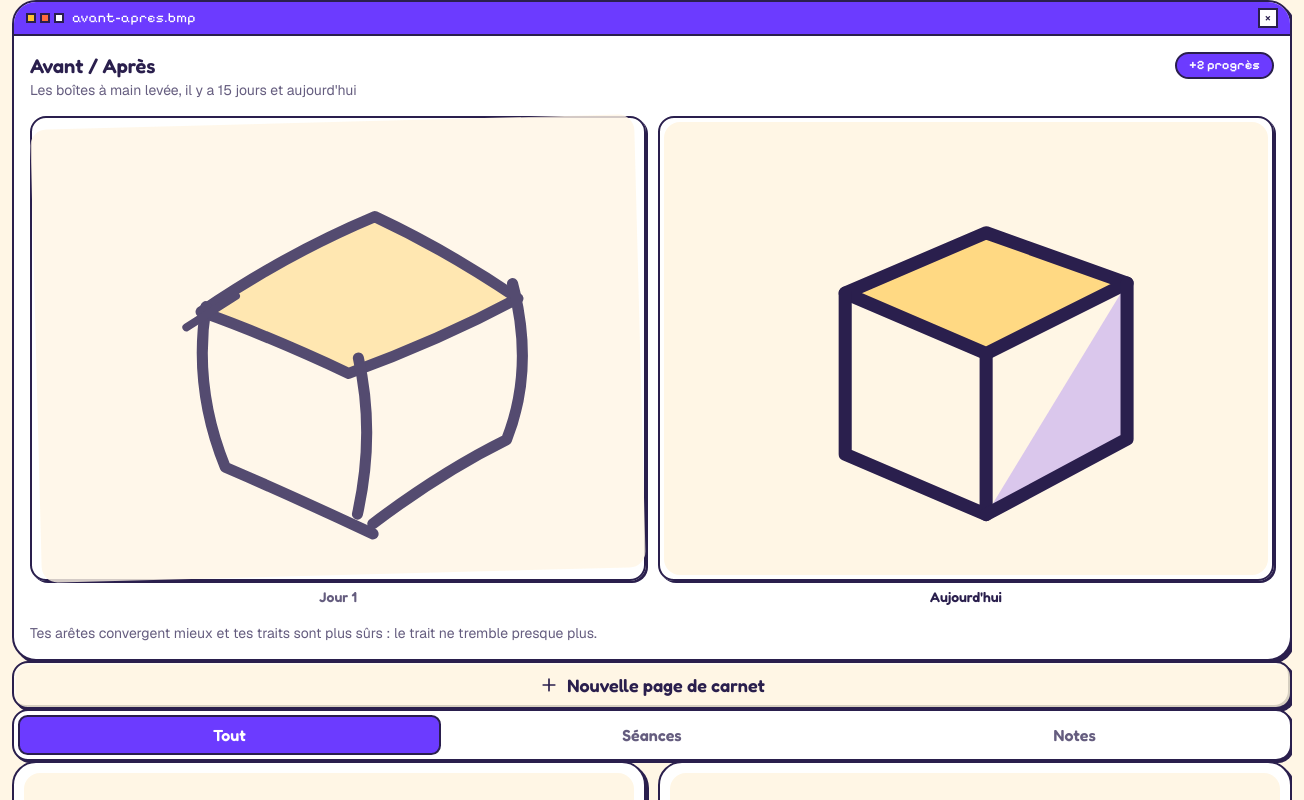
Test case: Journal › lists every page, then filters by type
Click the radio button labelled "Notes" at (1075, 735), box [863,715,1286,755]
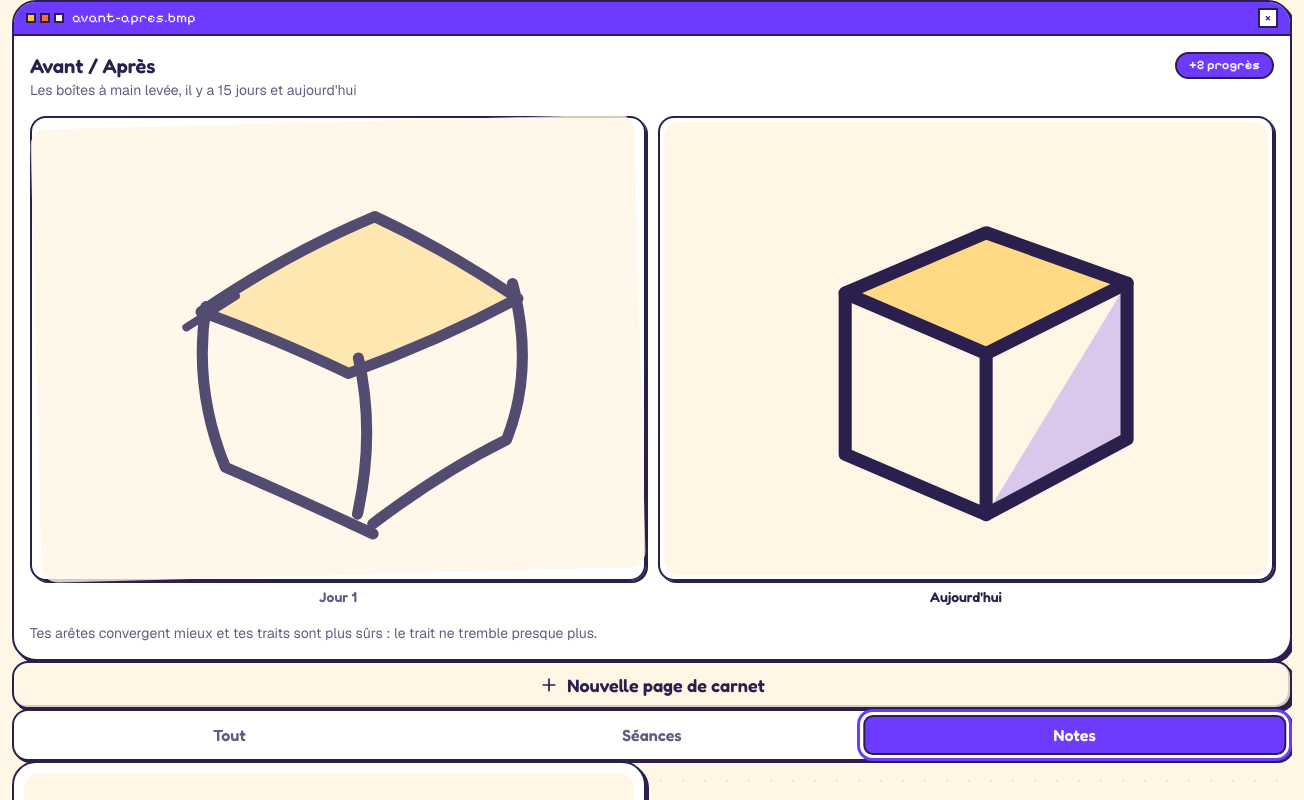
Click the radio button labelled "Séances" at (652, 735), box [441,715,863,755]
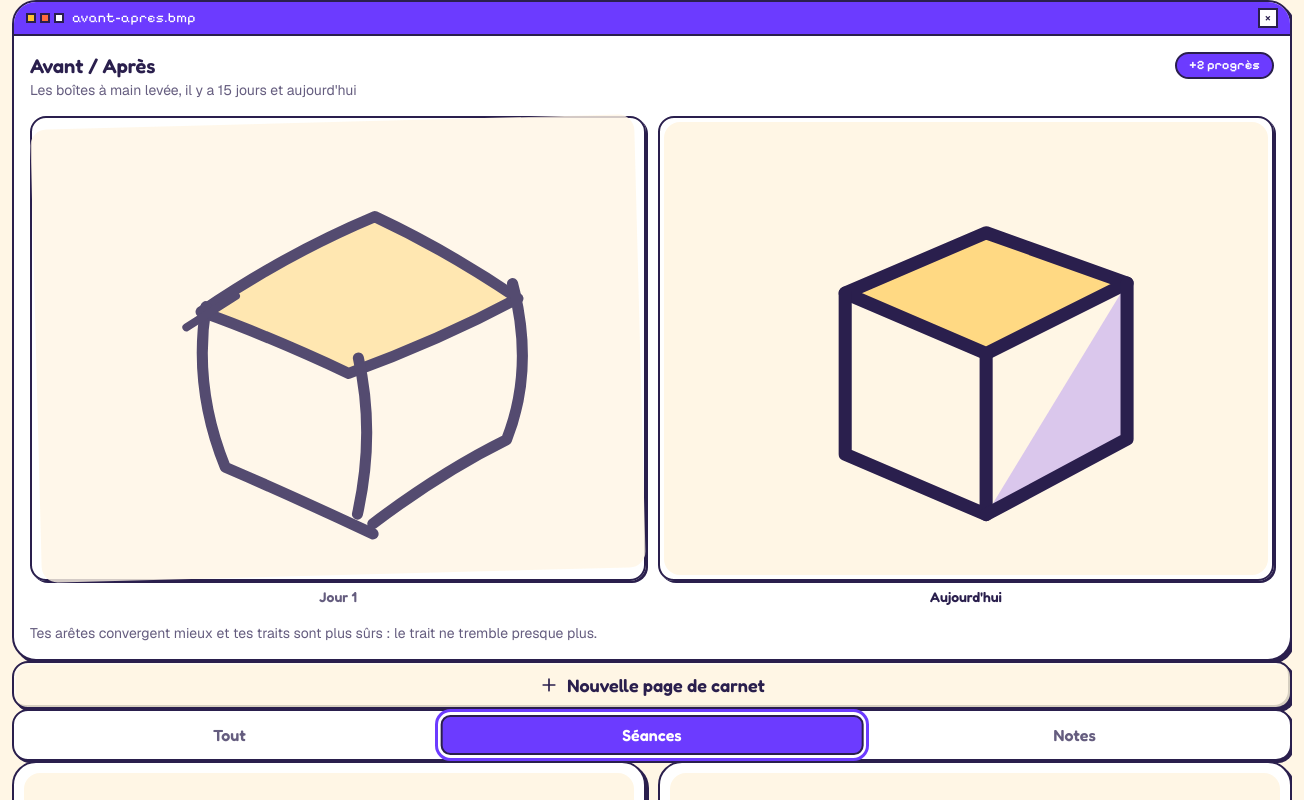
Check: the number of list items is 4
